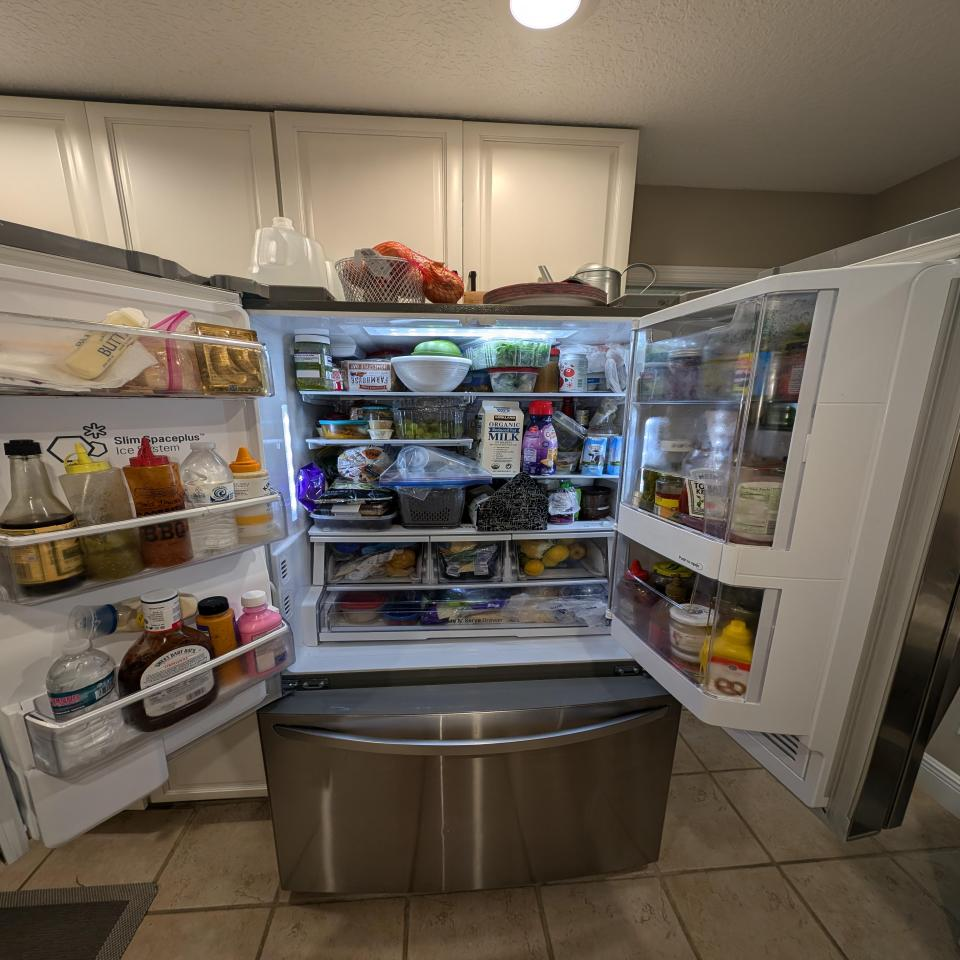Leche: (476, 400, 523, 476)
Limón: (525, 559, 544, 576), (546, 546, 569, 560), (543, 556, 557, 567)
Mantequilla: (66, 306, 146, 378)
Manzana: (568, 543, 585, 560)
